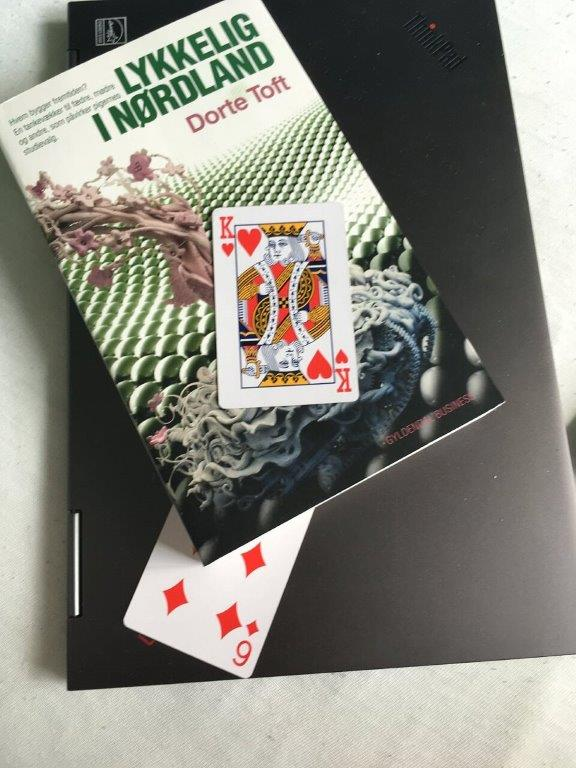KH: (217, 212, 239, 261)
